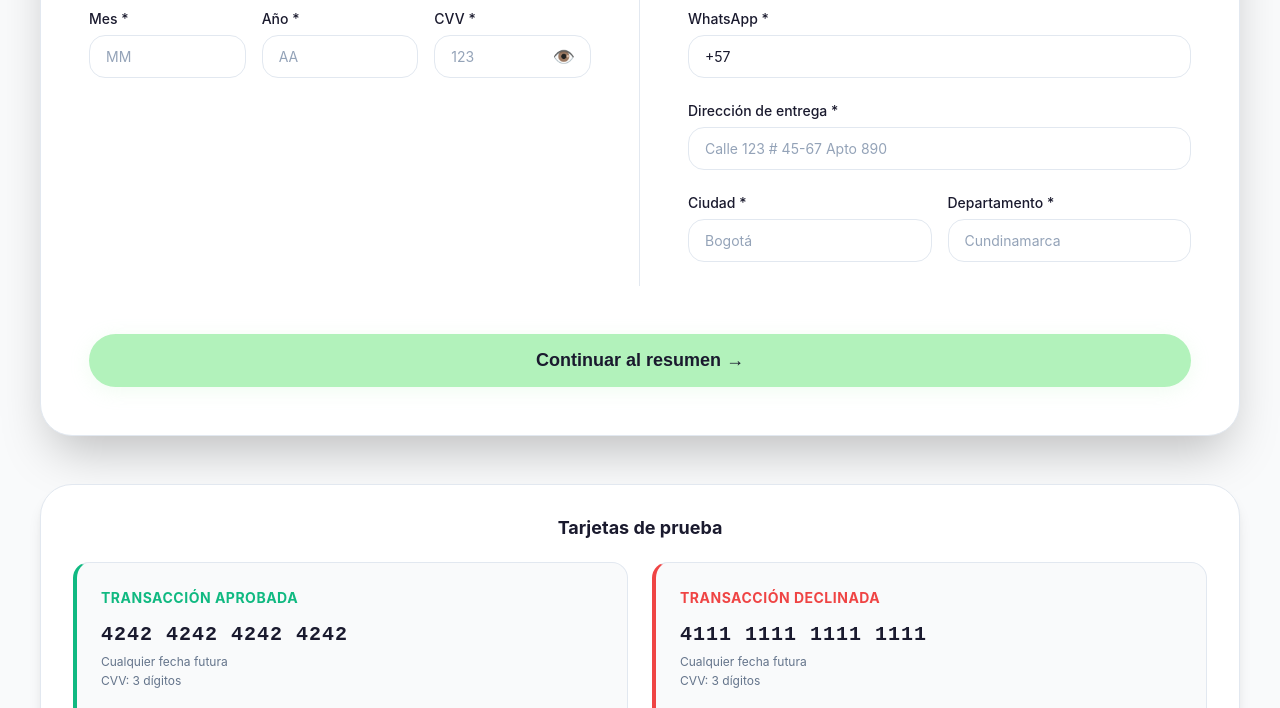
Test: PaymentModal Component › should show validation errors on empty submit
This screenshot has width=1280, height=708.
(page scrolled)
Click the button "Continuar al resumen →".
click(640, 360)  # box [89,334,1191,387]
(page scrolled)
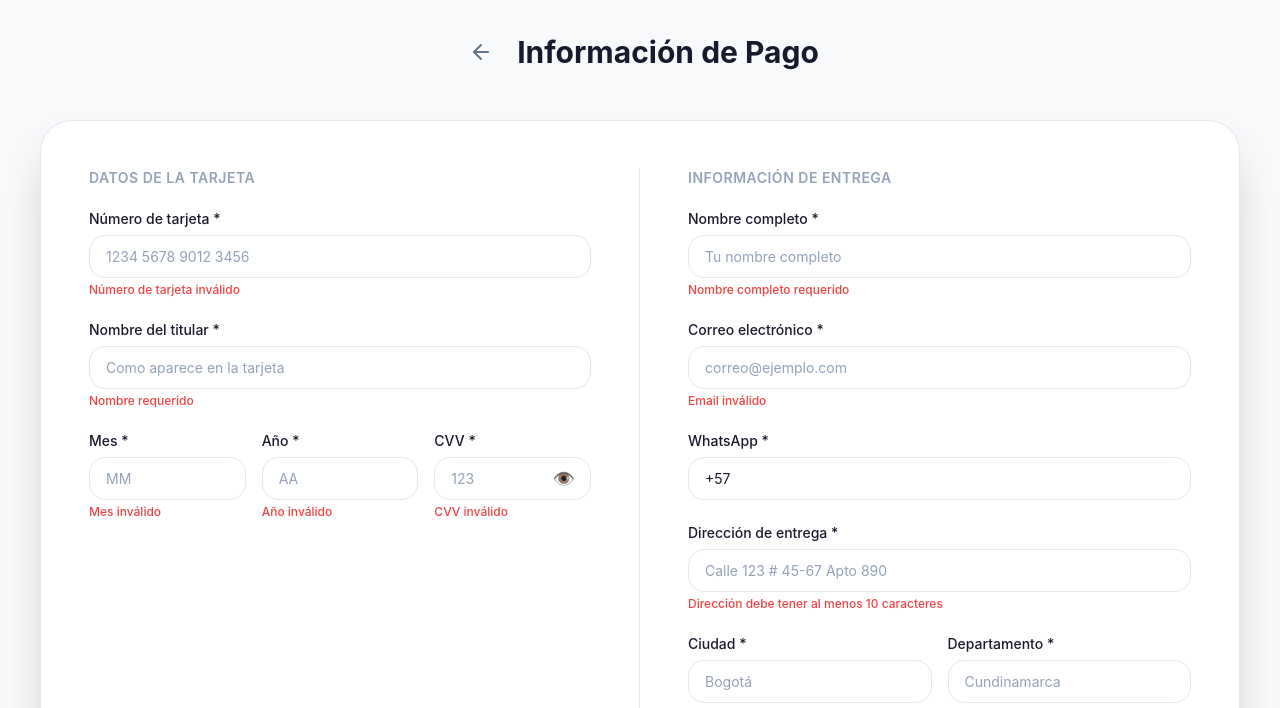
Result: the text "Número de tarjeta inválido" is shown at [89,282,240,297]
